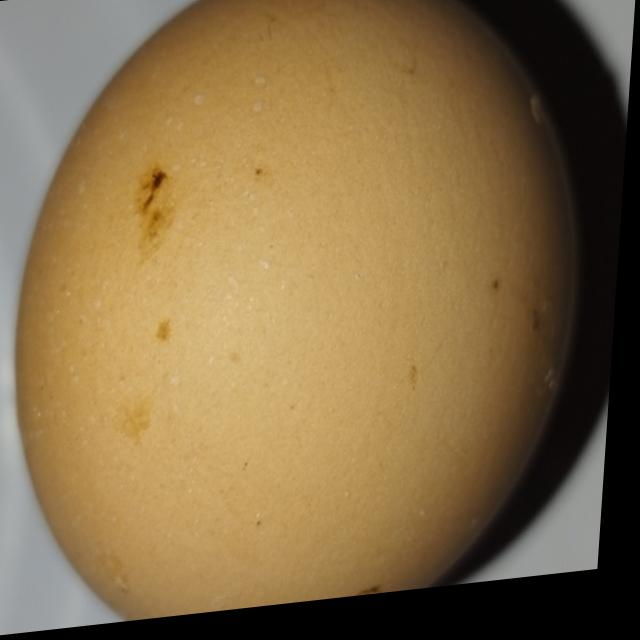fresh: (4, 0, 608, 637)
